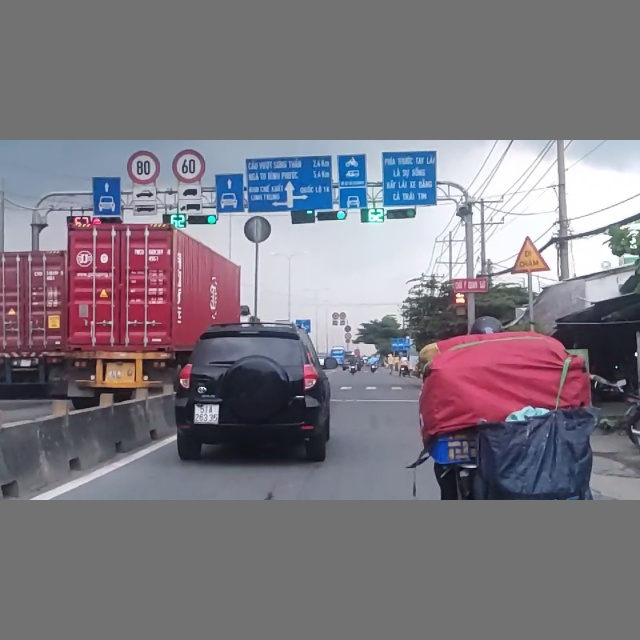P.127*60: (172, 149, 206, 183)
P.127*80: (126, 151, 161, 185)
W.245a: (512, 235, 551, 274)
